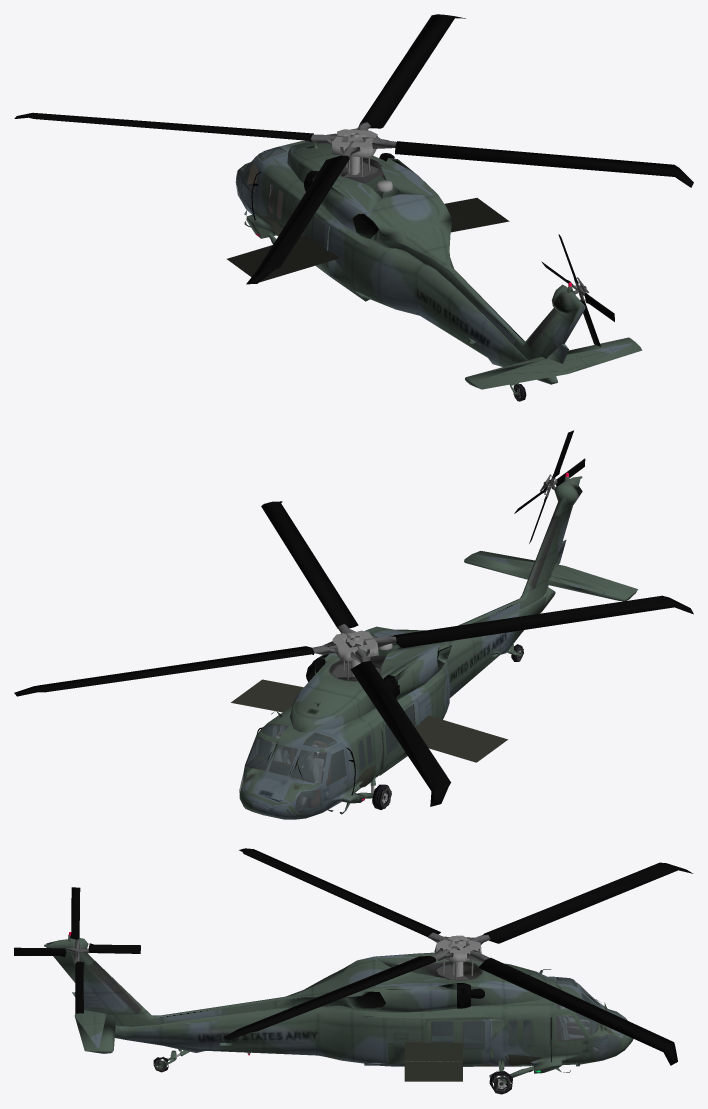
3 views of the same model, one above another, from view 1: azimuth 30°, elevation 25°; view 2: azimuth 150°, elevation 25°; view 3: azimuth 270°, elevation 25° (orthographic). The views are drawn at different scales.
Visible parts, largest first — view 1: body|Ellipse04-FACES, body|fuzelag-FACES, rotor|Cylinder08-FACES, body|default#esss (×2), body|Line16-FACES, body|glass, rotor|Cylinder04-FACES, body|kabina01-FACES, rotor|Cylinder08-FACES_0, trotor|Cylinder08-FACES; view 2: rotor|Cylinder08-FACES, body|fuzelag-FACES, body|Ellipse04-FACES, body|glass, body|default#esss (×2), body|Line16-FACES, body|kabina01-FACES, rotor|Cylinder08-FACES_0, rotor|Cylinder04-FACES, trotor|Cylinder08-FACES; view 3: body|fuzelag-FACES, body|Ellipse04-FACES, rotor|Cylinder08-FACES, body|glass, body|default#esss, body|kabina01-FACES, trotor|Cylinder08-FACES, body|Line16-FACES, rotor|Cylinder04-FACES, rotor|Cylinder08-FACES_0, body|Torus01-FACES.
Boxes of the visible parts, <box> form: body|Ellipse04-FACES: <box>287,141,585,363</box>; body|fuzelag-FACES: <box>236,140,557,384</box>; rotor|Cylinder08-FACES: <box>14,14,693,284</box>; body|default#esss (×2): <box>227,198,509,282</box>; body|Line16-FACES: <box>244,210,642,389</box>; body|glass: <box>235,140,325,246</box>; rotor|Cylinder04-FACES: <box>332,129,377,157</box>; body|kabina01-FACES: <box>237,141,325,243</box>; rotor|Cylinder08-FACES_0: <box>310,122,396,157</box>; trotor|Cylinder08-FACES: <box>541,234,614,346</box>; rotor|Cylinder08-FACES: <box>14,501,693,806</box>; body|fuzelag-FACES: <box>239,587,555,819</box>; body|Ellipse04-FACES: <box>290,476,582,732</box>; body|glass: <box>239,704,415,815</box>; body|default#esss (×2): <box>231,679,507,762</box>; body|Line16-FACES: <box>327,551,637,811</box>; body|kabina01-FACES: <box>244,704,415,815</box>; rotor|Cylinder08-FACES_0: <box>312,624,396,662</box>; rotor|Cylinder04-FACES: <box>332,630,378,661</box>; trotor|Cylinder08-FACES: <box>514,430,585,543</box>; body|fuzelag-FACES: <box>114,976,633,1073</box>; body|Ellipse04-FACES: <box>46,938,561,1026</box>; rotor|Cylinder08-FACES: <box>223,848,693,1065</box>; body|glass: <box>431,977,620,1060</box>; body|default#esss: <box>404,1041,462,1081</box>; body|kabina01-FACES: <box>431,977,630,1065</box>; trotor|Cylinder08-FACES: <box>14,887,140,1013</box>; body|Line16-FACES: <box>74,1010,581,1066</box>; rotor|Cylinder04-FACES: <box>434,935,481,962</box>; rotor|Cylinder08-FACES_0: <box>428,932,490,962</box>; body|Torus01-FACES: <box>457,983,484,1008</box>.
Size of the model in its own units: 12.21 by 5.16 by 17.48.
Materials: 41 (20 with a texture image).
